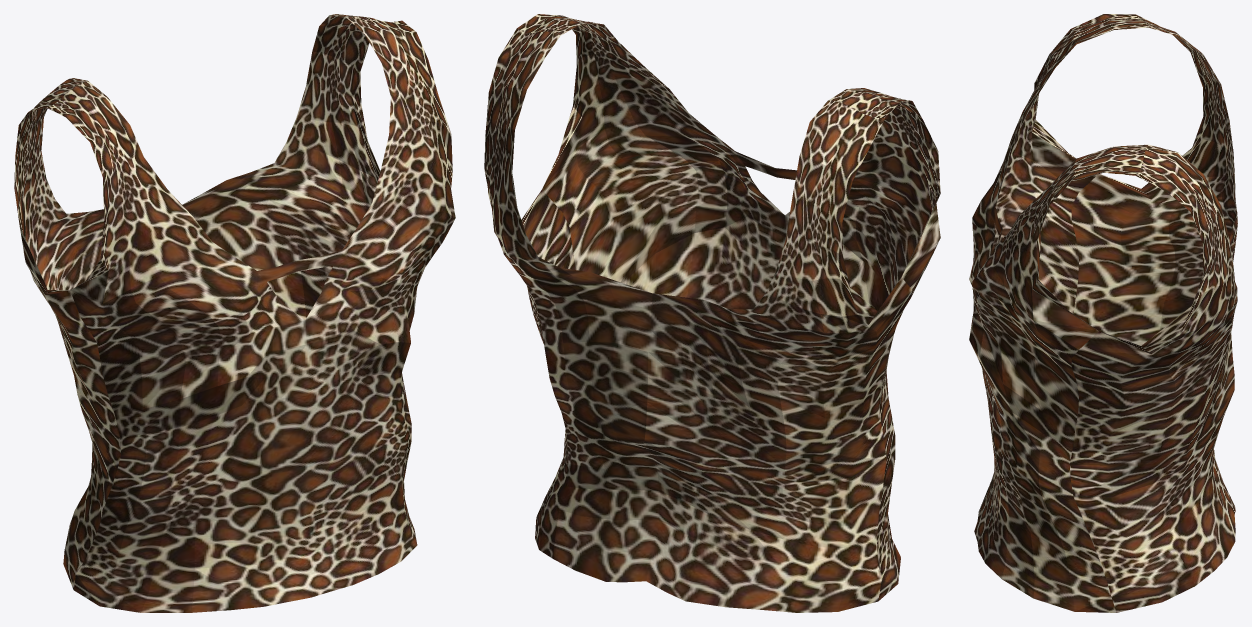
Rendered from mhw_toigo_keyhole_tank_top.glb.
The picture shows the model from 3 angles, left to right: view 1: azimuth 30°, elevation 25°; view 2: azimuth 150°, elevation 25°; view 3: azimuth 270°, elevation 25°; orthographic projection. The views are drawn at different scales.
Parts seen in each view (by area): view 1: mhw_toigo_keyhole_tank_top; view 2: mhw_toigo_keyhole_tank_top; view 3: mhw_toigo_keyhole_tank_top.
Boxes of the visible parts, x1,y1,x2,y2 form: mhw_toigo_keyhole_tank_top: (14, 14, 455, 612); mhw_toigo_keyhole_tank_top: (484, 14, 940, 612); mhw_toigo_keyhole_tank_top: (969, 14, 1237, 612).
Size of the model in its own units: 0.3945 by 0.5148 by 0.2757.
Materials: 1 (1 with a texture image).
